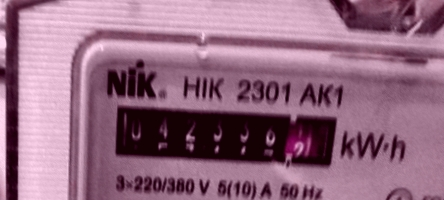0: (129, 113, 143, 142)
2: (181, 114, 200, 141)
3: (208, 113, 225, 143), (237, 114, 252, 142)
4: (155, 113, 172, 141)
6: (263, 120, 278, 147)
screen: (104, 93, 345, 177)
